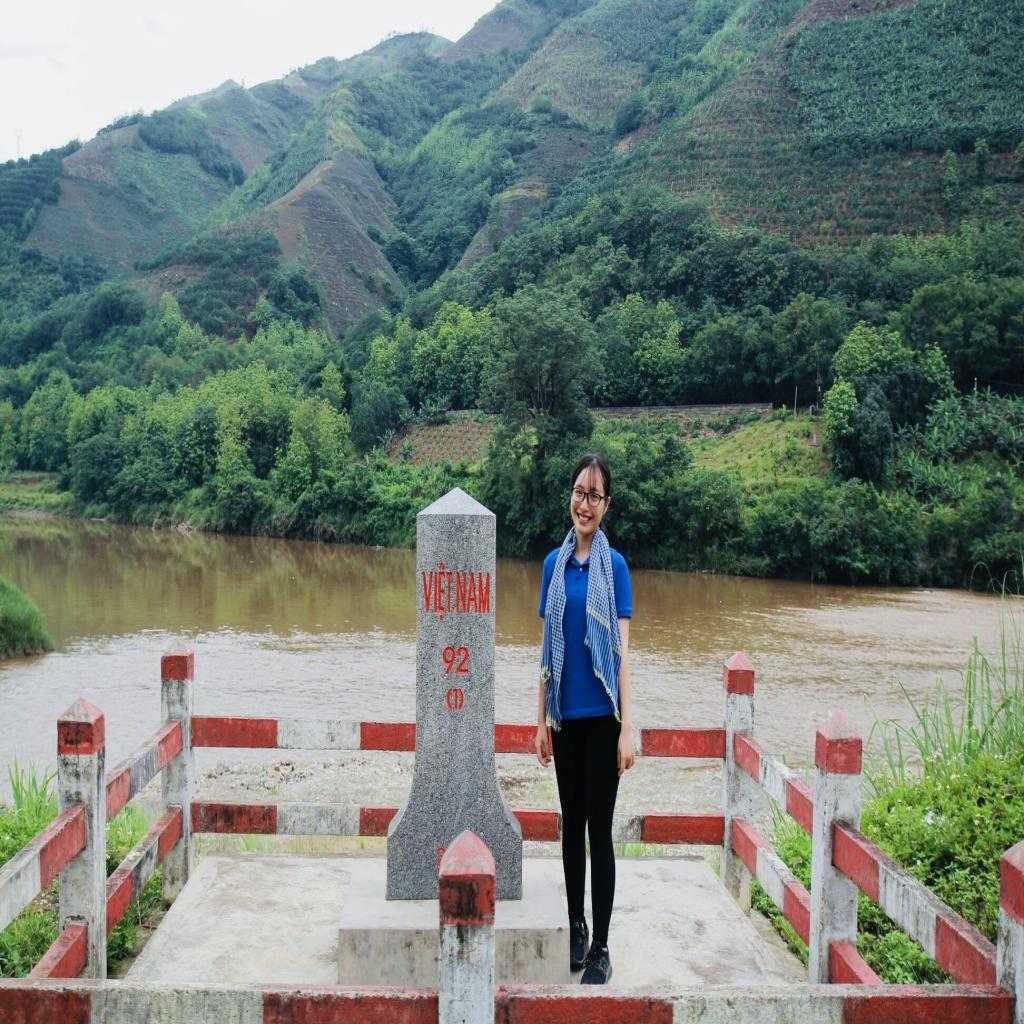text: (420, 561, 454, 623), (454, 568, 494, 616), (441, 644, 471, 676)
